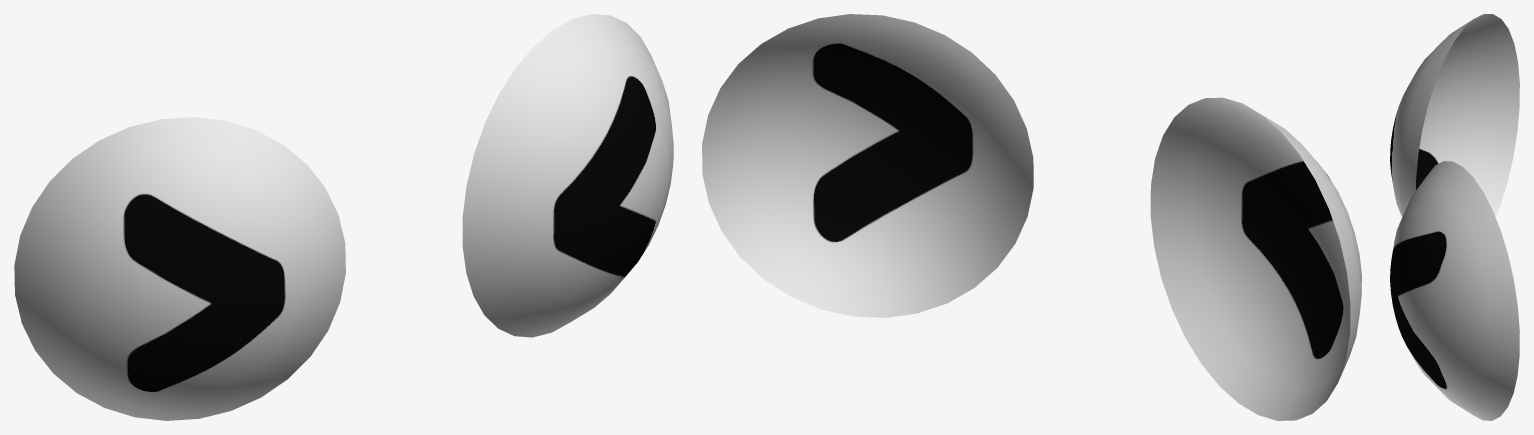
File: Eyes_8.fbx
The picture shows the model from 3 angles, left to right: view 1: azimuth 30°, elevation 25°; view 2: azimuth 150°, elevation 25°; view 3: azimuth 270°, elevation 25°; orthographic projection. The views are drawn at different scales.
Visible parts, largest first — view 1: Eyes_8; view 2: Eyes_8; view 3: Eyes_8.
Boxes of the visible parts, x1,y1,x2,y2 form: Eyes_8: [14, 14, 673, 420]; Eyes_8: [702, 14, 1361, 420]; Eyes_8: [1390, 14, 1519, 420].
Bounding box in the file's own units: 34.8 × 15.53 × 7.65.
